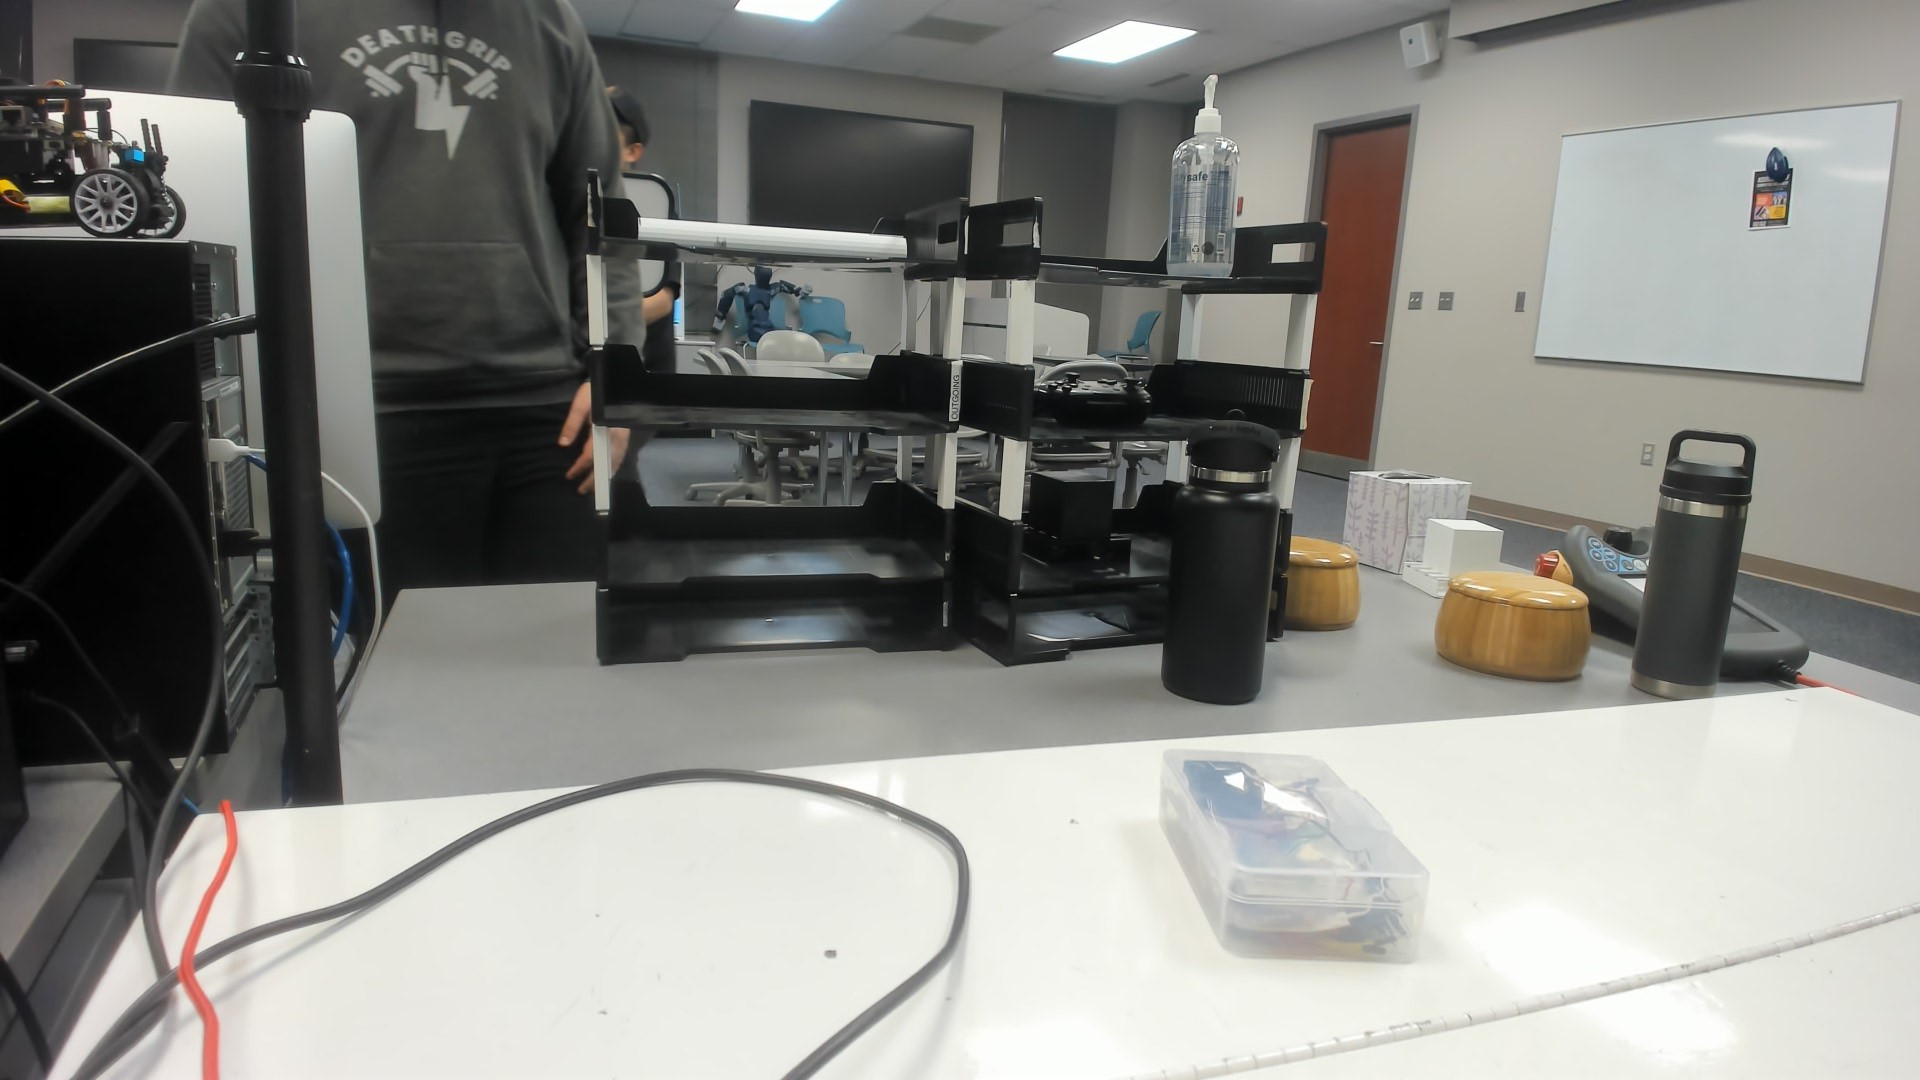black pallet: (1009, 465, 1139, 579)
white pallet: (1396, 516, 1513, 601)
